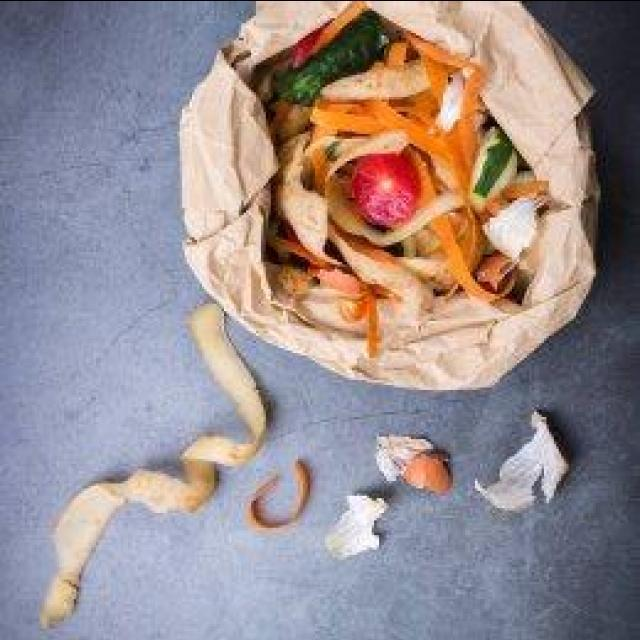Garbage: (257, 1, 539, 314)
